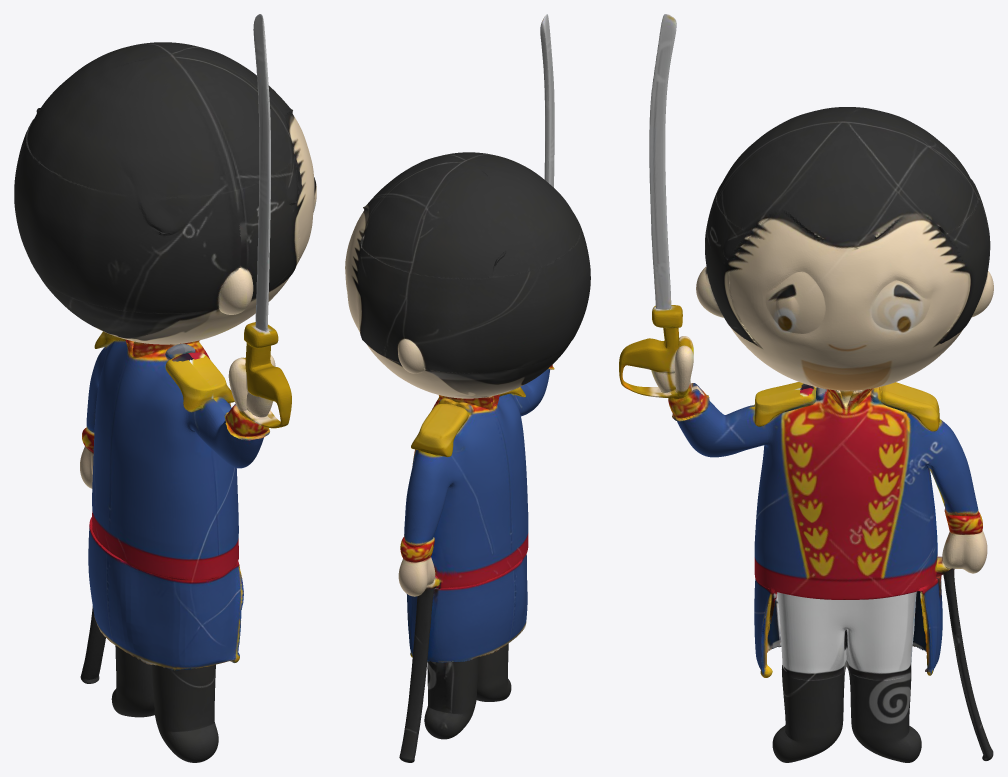
File: simon.glb
The picture shows the model from 3 angles, left to right: view 1: azimuth 30°, elevation 25°; view 2: azimuth 150°, elevation 25°; view 3: azimuth 270°, elevation 25°; orthographic projection. The views are drawn at different scales.
Parts seen in each view (by area): view 1: tripo_node_885664f2-c067-4fc1-8064-87d1904f98a7; view 2: tripo_node_885664f2-c067-4fc1-8064-87d1904f98a7; view 3: tripo_node_885664f2-c067-4fc1-8064-87d1904f98a7.
Boxes of the visible parts, bbox=[...] form: tripo_node_885664f2-c067-4fc1-8064-87d1904f98a7: bbox=[14, 14, 316, 762]; tripo_node_885664f2-c067-4fc1-8064-87d1904f98a7: bbox=[345, 14, 590, 762]; tripo_node_885664f2-c067-4fc1-8064-87d1904f98a7: bbox=[619, 14, 993, 762].
Size of the model in its own units: 0.3442 by 1 by 0.4554.
Materials: 1 (1 with a texture image).
